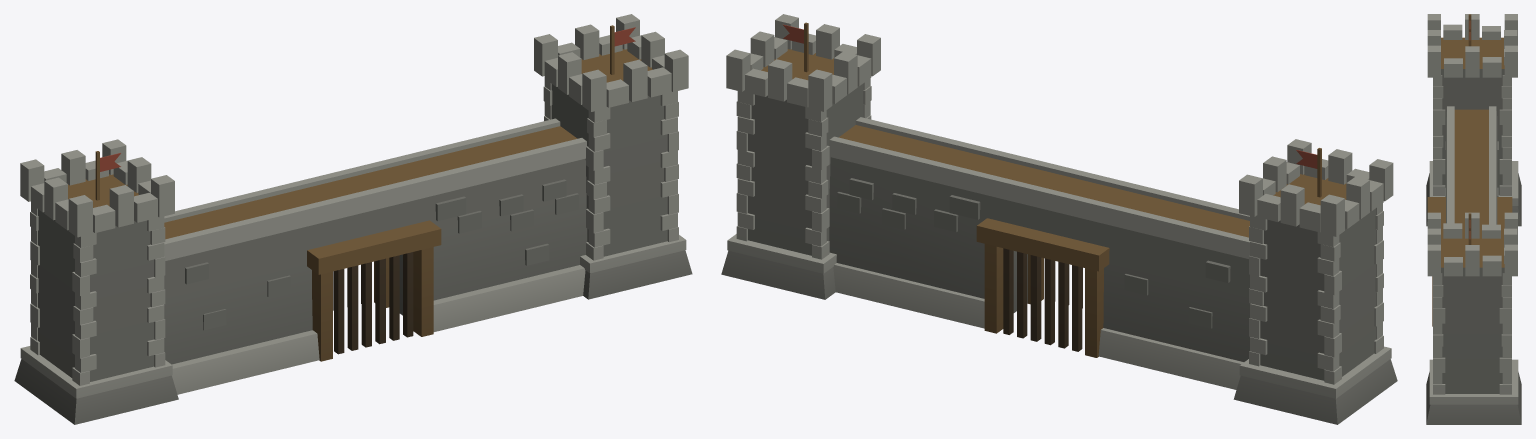
Rendered from gate-vallee.glb.
The picture shows the model from 3 angles, left to right: view 1: azimuth 30°, elevation 25°; view 2: azimuth 150°, elevation 25°; view 3: azimuth 270°, elevation 25°; orthographic projection. The views are drawn at different scales.
Visible parts, largest first — view 1: gate:vallee; view 2: gate:vallee; view 3: gate:vallee.
Boxes of the visible parts, x1,y1,x2,y2 form: gate:vallee: (14,14,692,424); gate:vallee: (721,14,1397,424); gate:vallee: (1426,14,1521,424).
Size of the model in its own units: 13 by 4.85 by 2.19.
